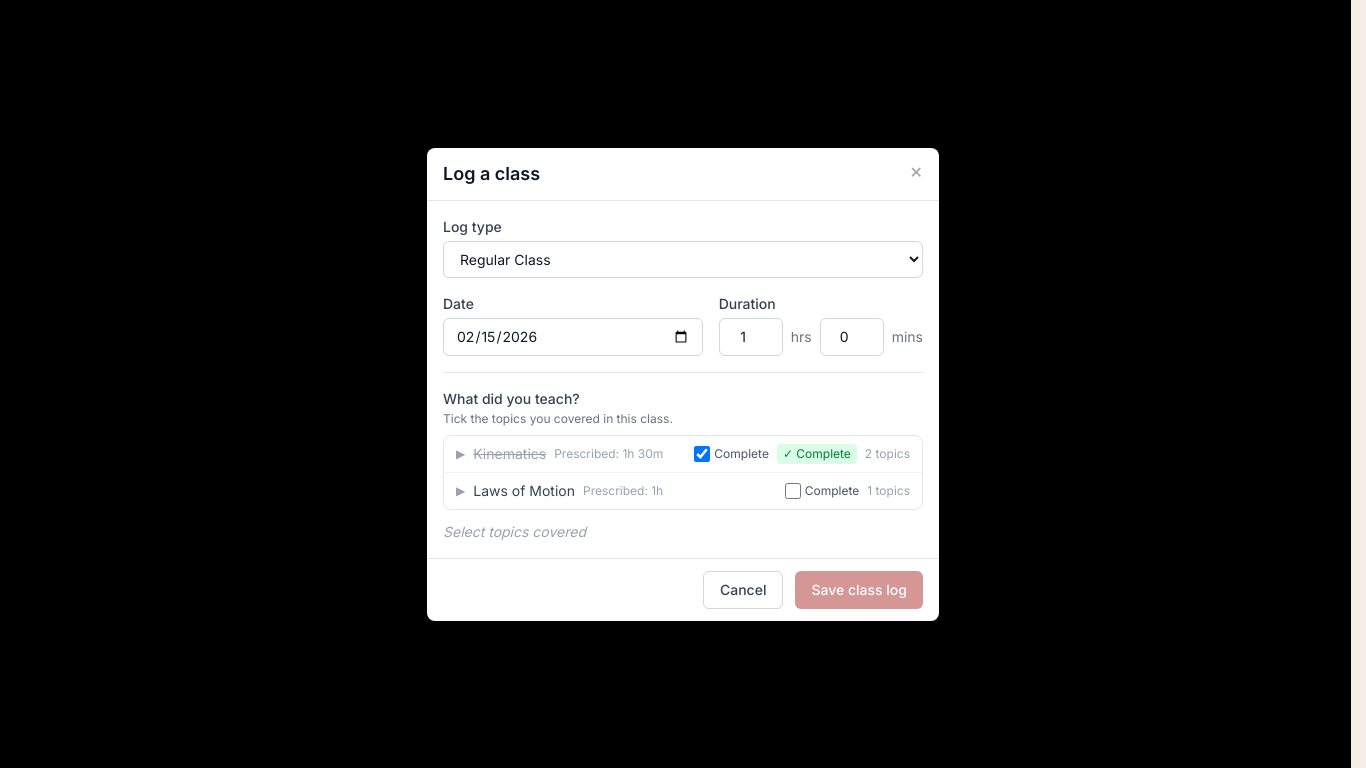
Scenario: LogSessionModal › keeps the Save button disabled until a cancelled Chapter is picked
The image size is (1366, 768).
Select "Class Cancelled" in the dropdown labelled "Log type" at (683, 259), box x1=443 y1=240 x2=923 y2=278
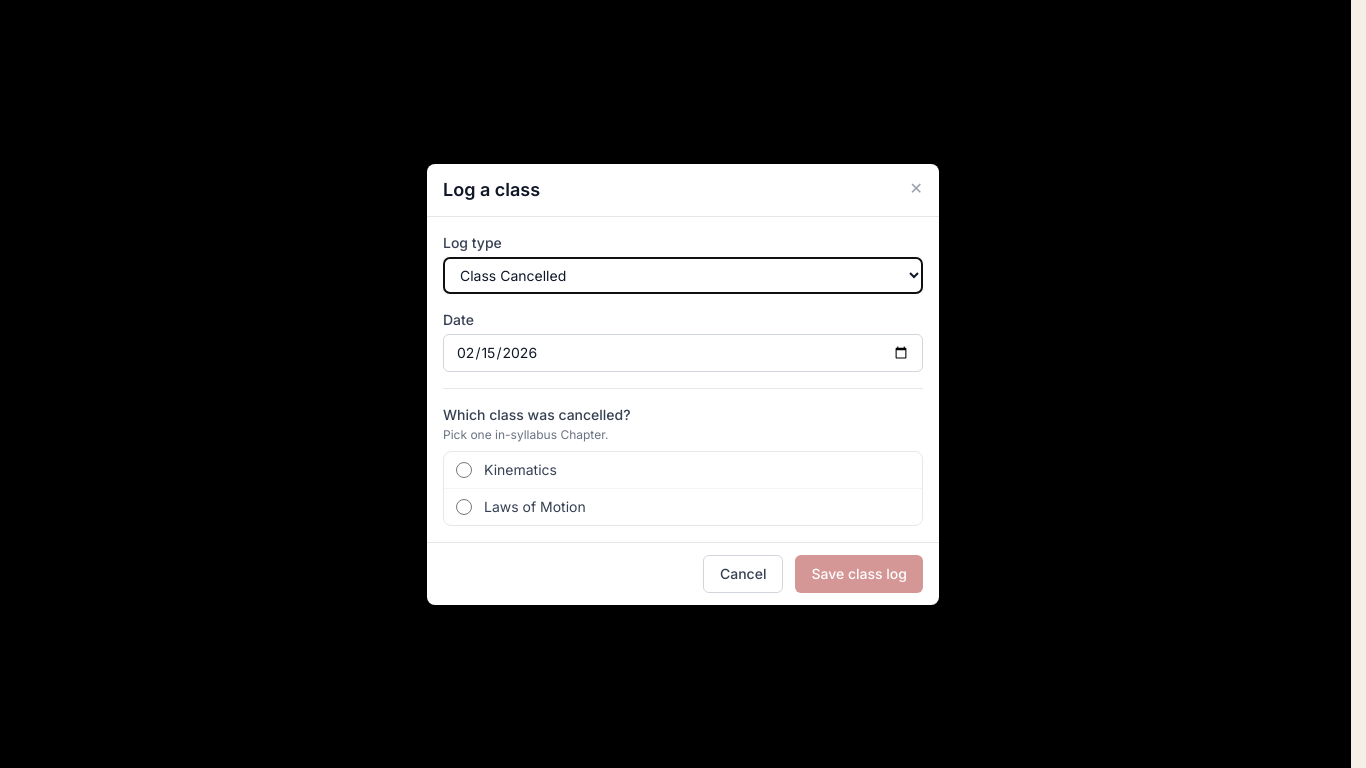
Expected: the button "Save class log" is disabled, x1=796 y1=554 x2=923 y2=592
Click the radio button labelled "Kinematics" at (464, 470), box x1=456 y1=462 x2=472 y2=478
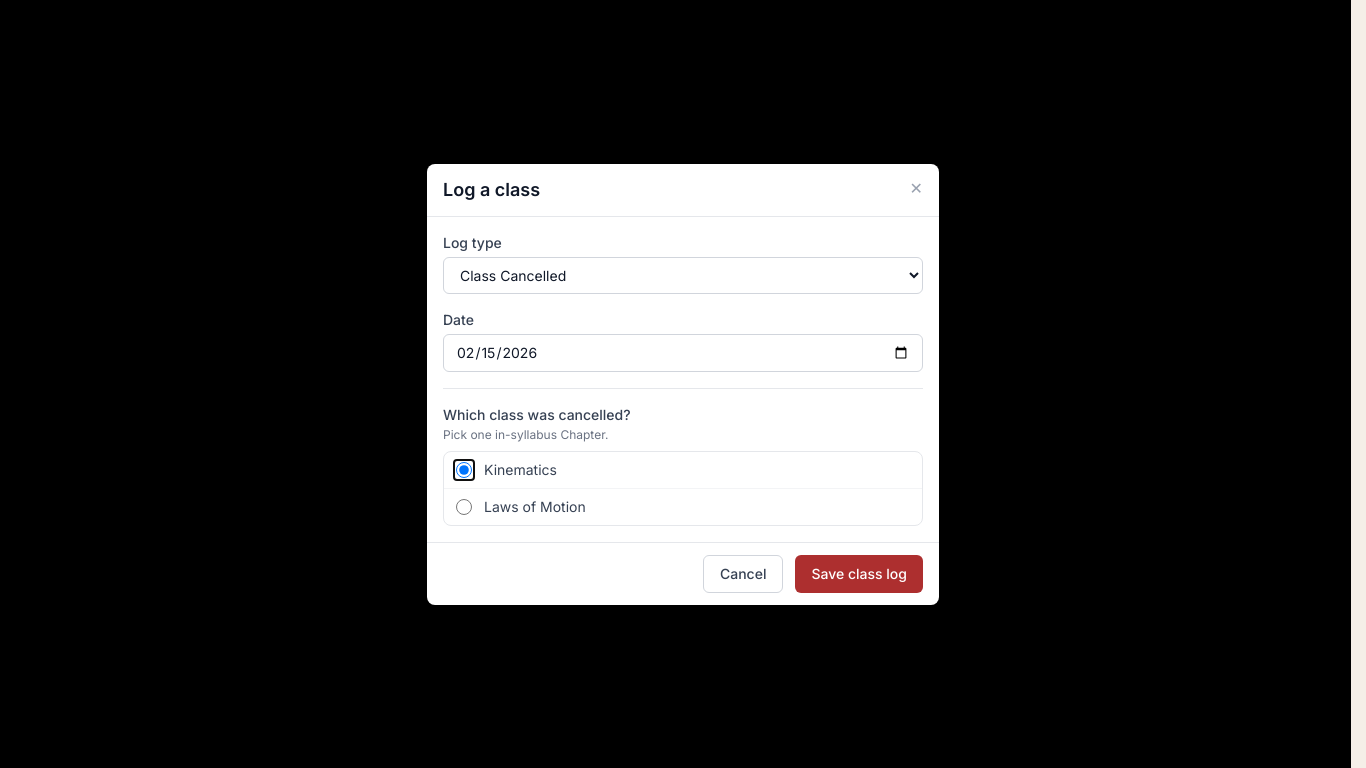
Expected: the button "Save class log" is enabled, x1=796 y1=554 x2=923 y2=592
